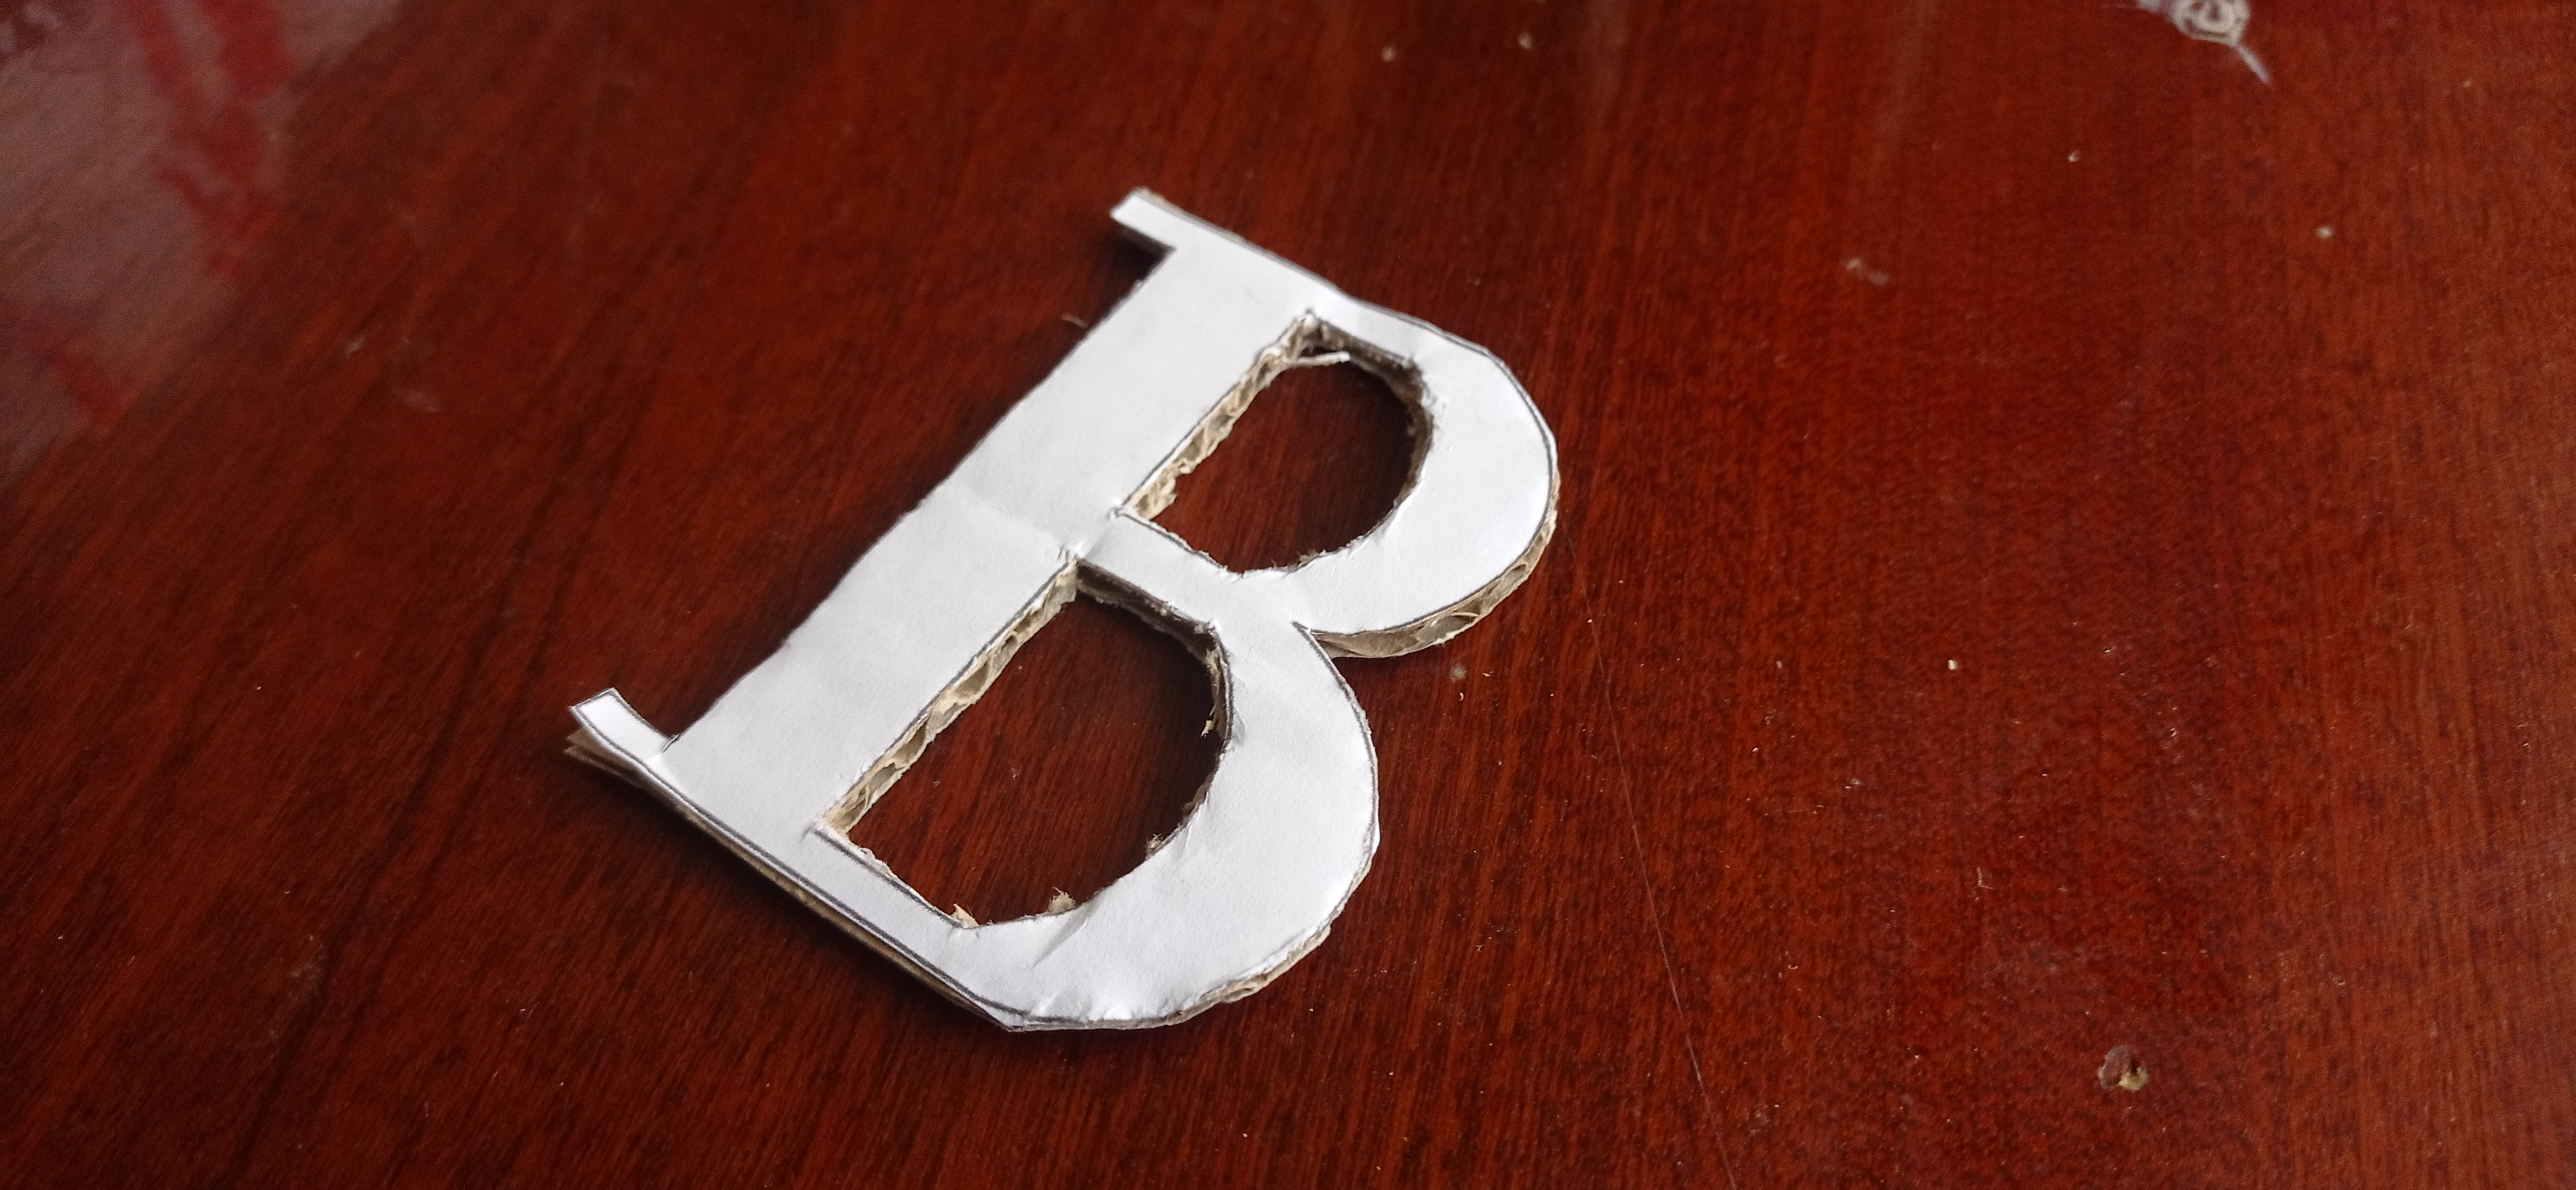v: (563, 189, 1562, 1042)
